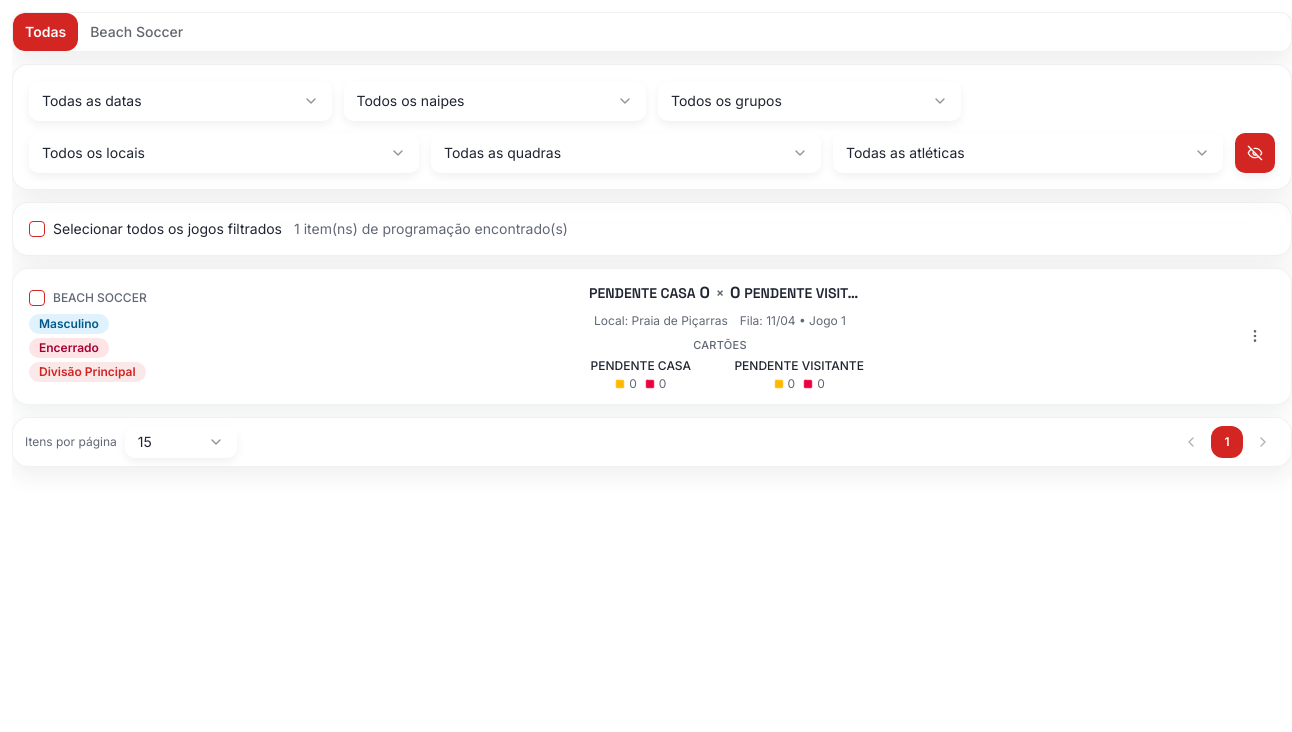
Test: AdminMatches score sheet review › abre ocultando jogos revisados por padrão e permite exibi-los novamente
expect the 1st text "PENDENTE CASA" is shown: met, box [574, 283, 696, 303]
expect the text "REVISADO CASA" is not shown: met
Click the button named "Mostrar jogos revisados também" at (1255, 153), box [1235, 133, 1275, 173]
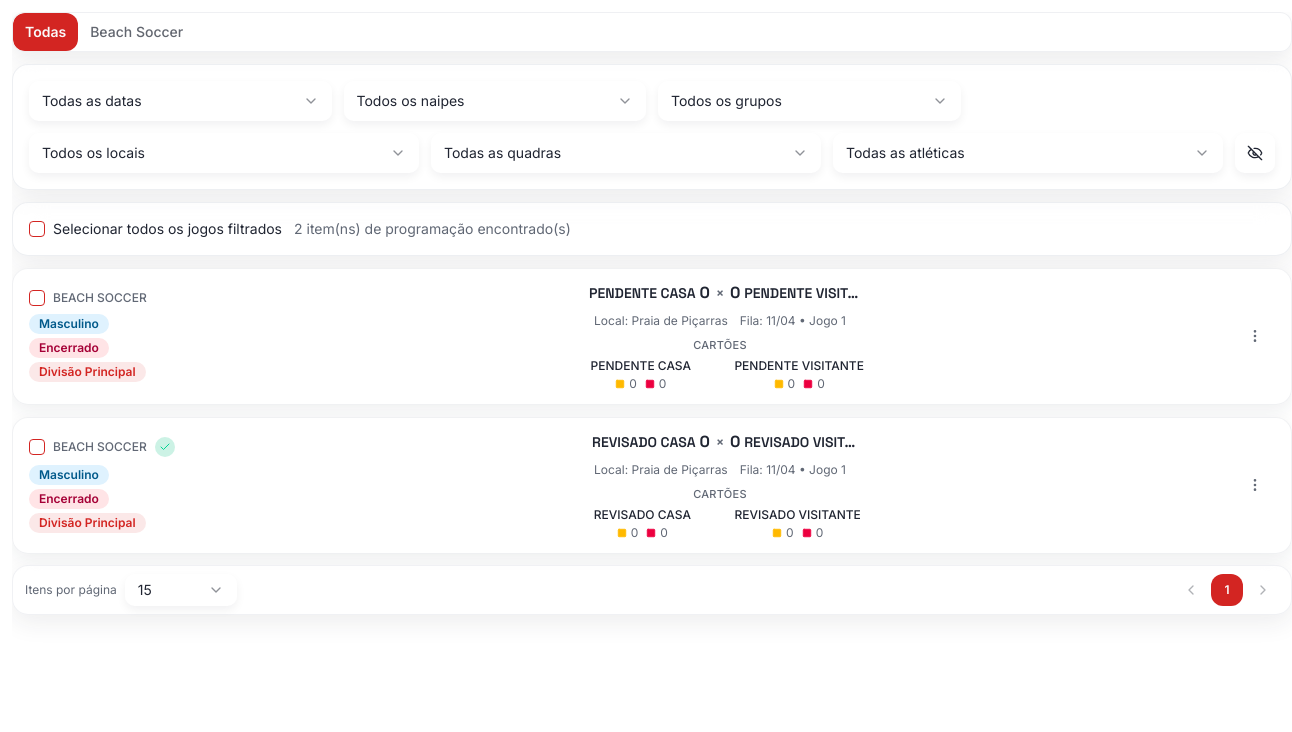
expect the 1st text "PENDENTE CASA" is shown: met, box [574, 283, 696, 303]
expect the 1st text "REVISADO CASA" is shown: met, box [577, 432, 696, 452]
